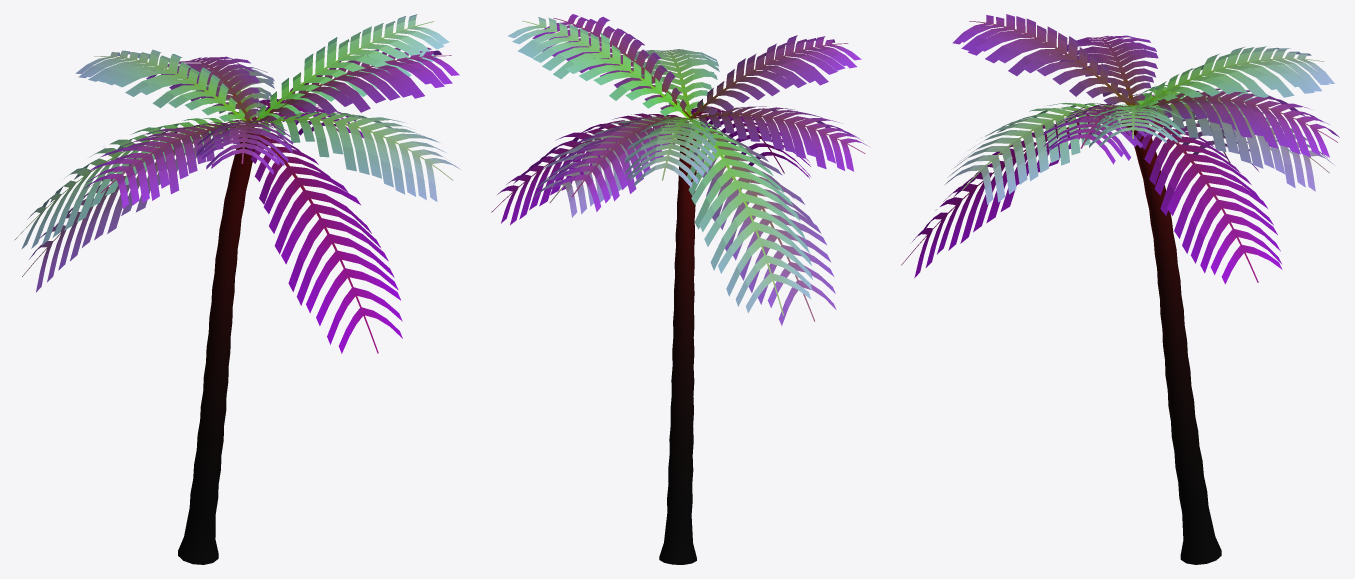
The model's file is Palm3.fbx.
3 views of the same model, side by side, from view 1: azimuth 30°, elevation 25°; view 2: azimuth 150°, elevation 25°; view 3: azimuth 270°, elevation 25° (orthographic). The views are drawn at different scales.
Visible parts, largest first — view 1: Palm3; view 2: Palm3; view 3: Palm3.
Part boxes in pixels (x1,y1,x2,y2): Palm3: (14, 14, 460, 564); Palm3: (491, 14, 869, 564); Palm3: (901, 14, 1339, 564).
Bounding box in the file's own units: 8.74 × 11.55 × 8.84.
